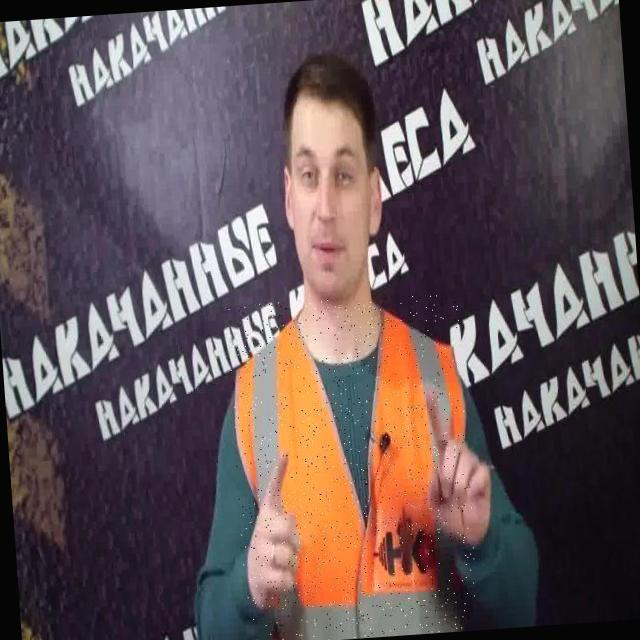no-gloves: (224, 442, 320, 634)
no-helmet: (241, 49, 417, 300)
vest: (225, 289, 480, 640)
